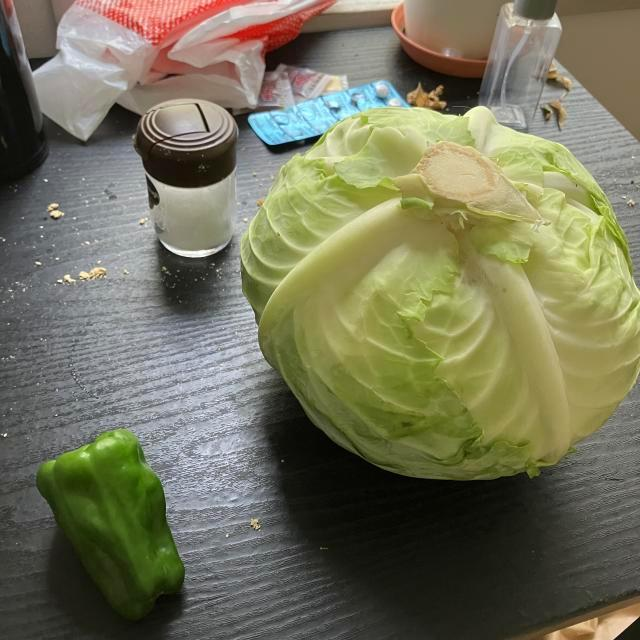cabbage: (239, 104, 640, 486)
